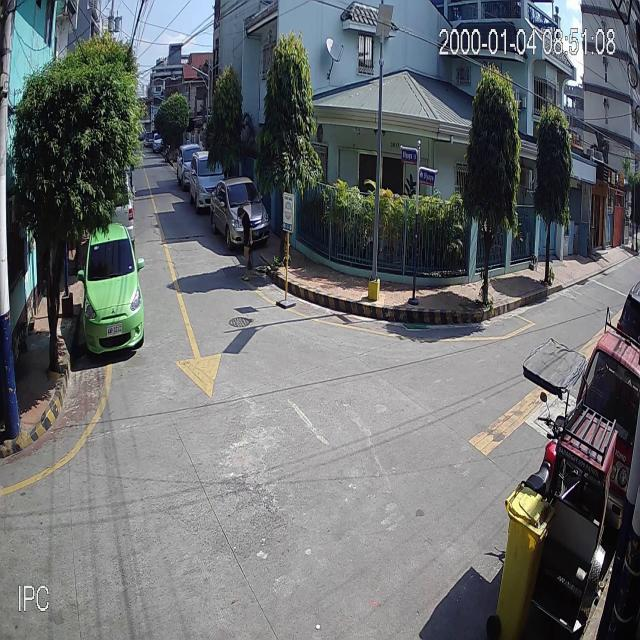walking: (235, 203, 252, 283)
